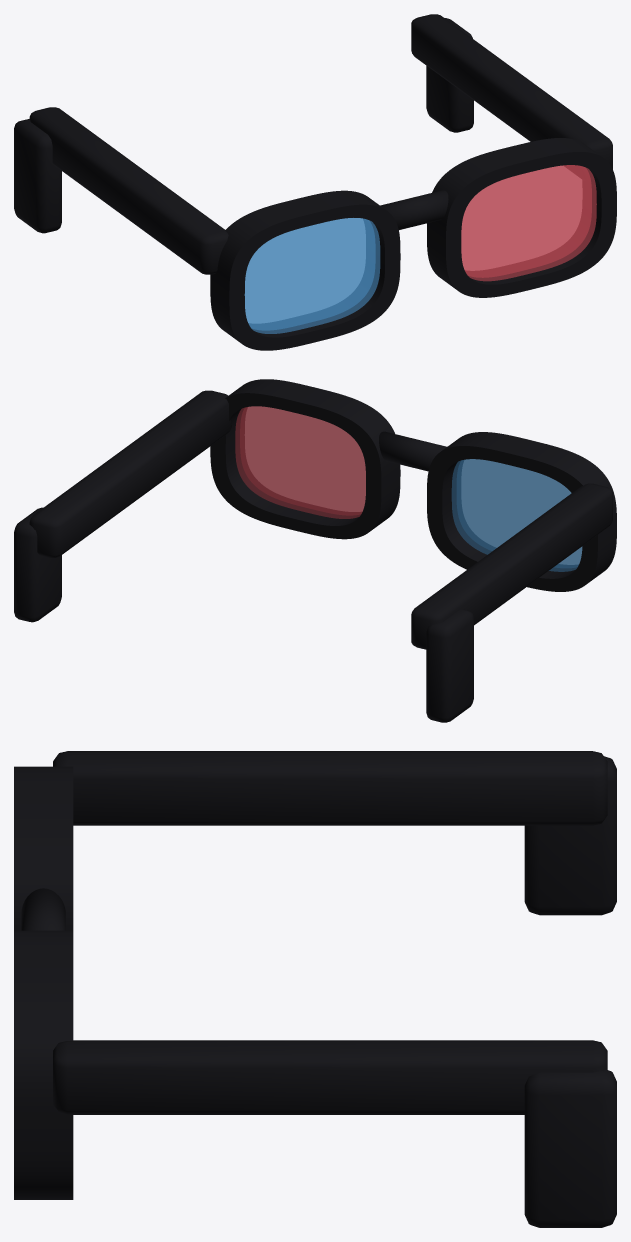
Rendered from 3dglasses.glb.
The picture shows the model from 3 angles, top to bottom: view 1: azimuth 30°, elevation 25°; view 2: azimuth 150°, elevation 25°; view 3: azimuth 270°, elevation 25°; orthographic projection. The views are drawn at different scales.
Visible parts, largest first — view 1: RectFrameL.002, RectFrameR.002, RectLensR.002, RectLensL.002, ArmL.008, ArmR.008, ArmLHook.008, ArmRHook.008, Bridge.006; view 2: RectFrameR.002, RectLensR.002, ArmR.008, RectFrameL.002, ArmL.008, RectLensL.002, ArmLHook.008, ArmRHook.008, Bridge.006; view 3: ArmL.008, ArmR.008, RectFrameR.002, ArmRHook.008, ArmLHook.008, RectFrameL.002, Bridge.006.
Boxes of the visible parts, x1,y1,x2,y2 form: RectFrameL.002: (210,190,400,350); RectFrameR.002: (427,138,616,297); RectLensR.002: (461,165,596,281); RectLensL.002: (244,218,380,333); ArmL.008: (29,107,228,274); ArmR.008: (411,14,612,168); ArmLHook.008: (14,119,61,233); ArmRHook.008: (426,18,473,132); Bridge.006: (380,190,448,229); RectFrameR.002: (210,379,400,539); RectLensR.002: (235,406,365,518); ArmR.008: (29,390,231,557); RectFrameL.002: (427,432,616,591); ArmL.008: (411,483,612,649); RectLensL.002: (451,459,582,571); ArmLHook.008: (426,609,473,722); ArmRHook.008: (14,507,61,622); Bridge.006: (379,431,446,471); ArmL.008: (53,751,607,825); ArmR.008: (53,1040,607,1114); RectFrameR.002: (14,930,73,1199); ArmRHook.008: (524,1069,616,1227); ArmLHook.008: (524,756,616,915); RectFrameL.002: (14,766,73,930); Bridge.006: (21,888,65,930).
Size of the model in its own units: 0.424 by 0.12 by 0.326.
